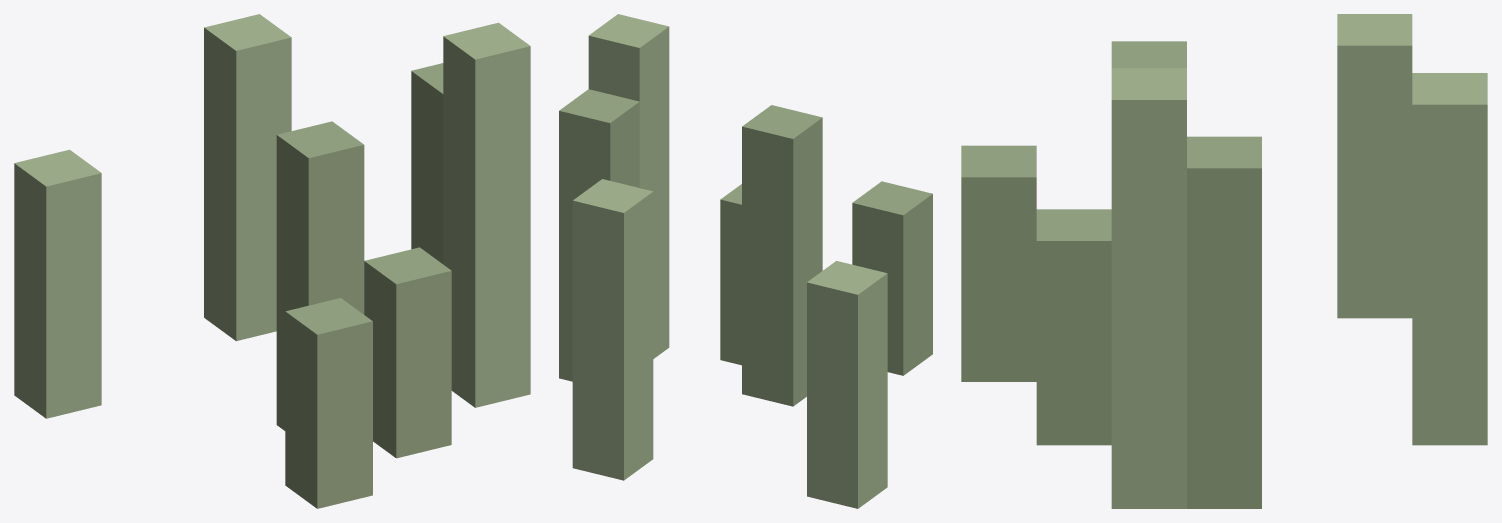
The model's file is hinojo_marino_02.glb.
The picture shows the model from 3 angles, left to right: view 1: azimuth 30°, elevation 25°; view 2: azimuth 150°, elevation 25°; view 3: azimuth 270°, elevation 25°; orthographic projection. The views are drawn at different scales.
Parts seen in each view (by area): view 1: hinojo_marino_02; view 2: hinojo_marino_02; view 3: hinojo_marino_02.
Boxes of the visible parts, bbox=[...] form: hinojo_marino_02: bbox=[14, 14, 530, 508]; hinojo_marino_02: bbox=[559, 14, 932, 508]; hinojo_marino_02: bbox=[961, 14, 1487, 508].
Bounding box in the file's own units: 0.7 × 0.6 × 0.7.
